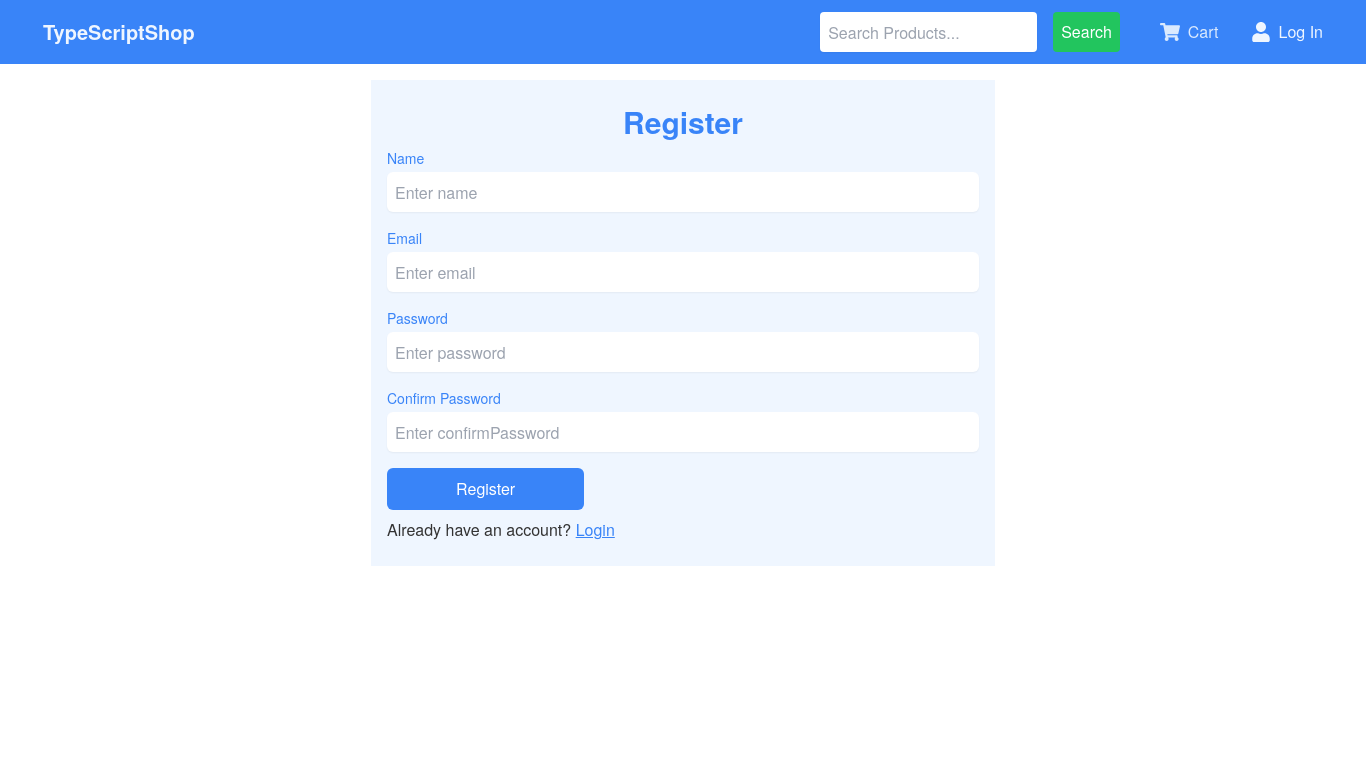
shows username in header after successful registration
Type "john" into the field with test id "input-name".
click(683, 192); type("john")  # box left=387, top=172, right=979, bottom=212
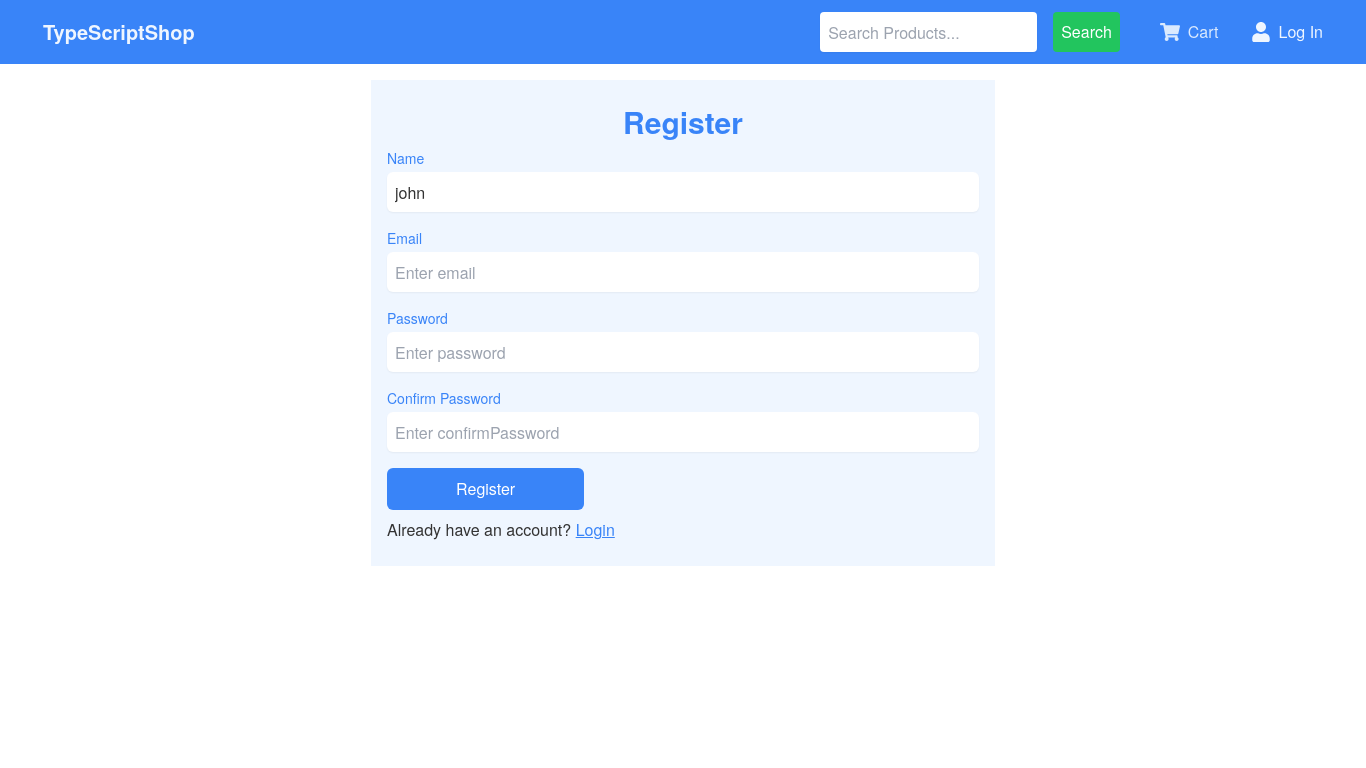
Type "john@email.com" into the field with test id "input-email".
click(683, 272); type("john@email.com")  # box left=387, top=252, right=979, bottom=292
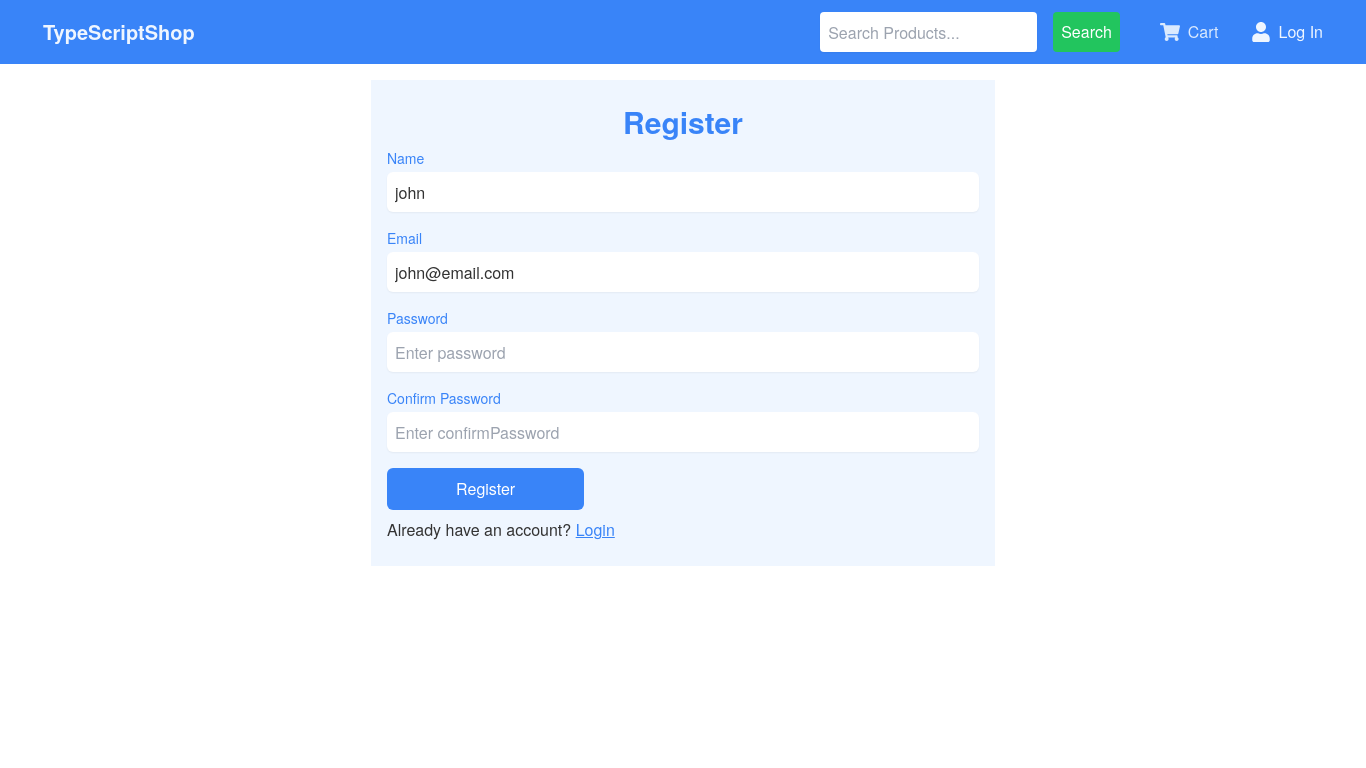
Type "123456" into the password field with test id "input-password".
click(683, 352); type("123456")  # box left=387, top=332, right=979, bottom=372
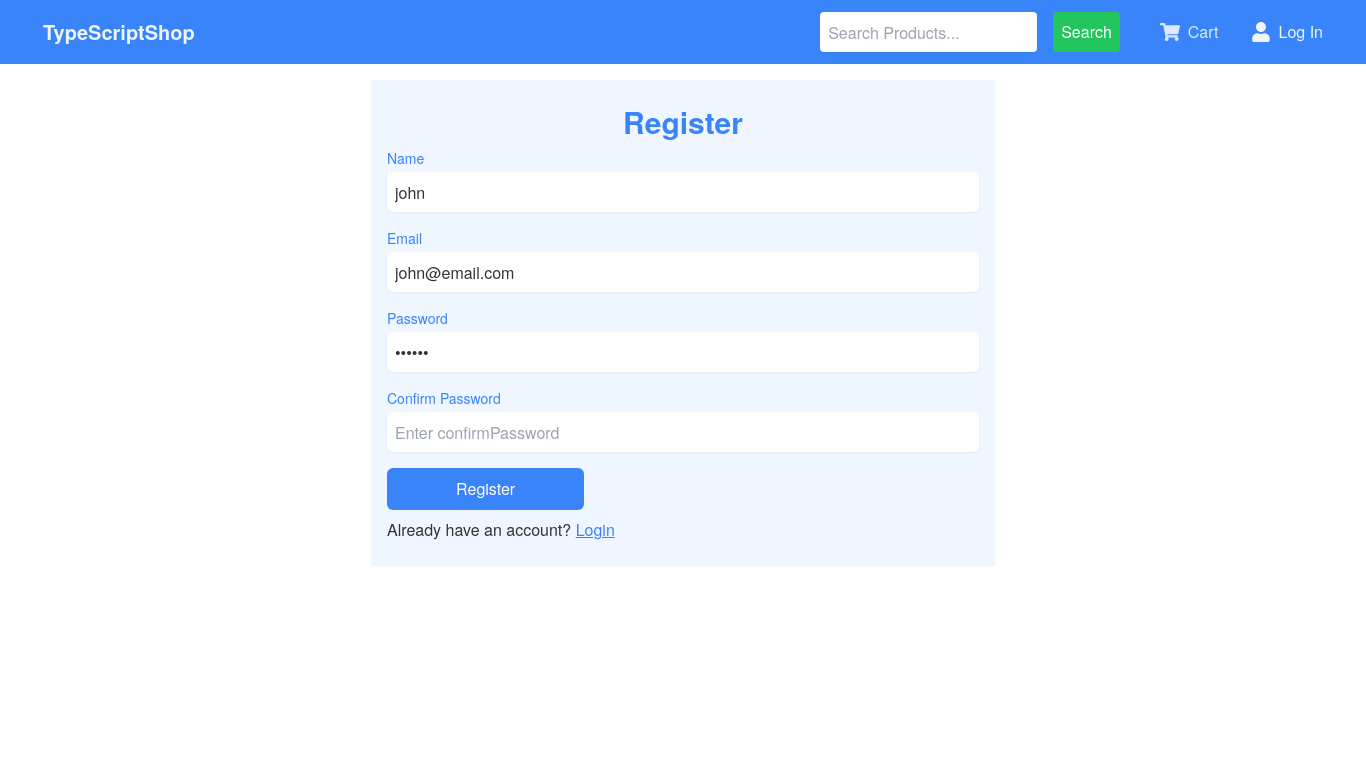
Type "123456" into the field with test id "input-confirmPassword".
click(683, 432); type("123456")  # box left=387, top=412, right=979, bottom=452
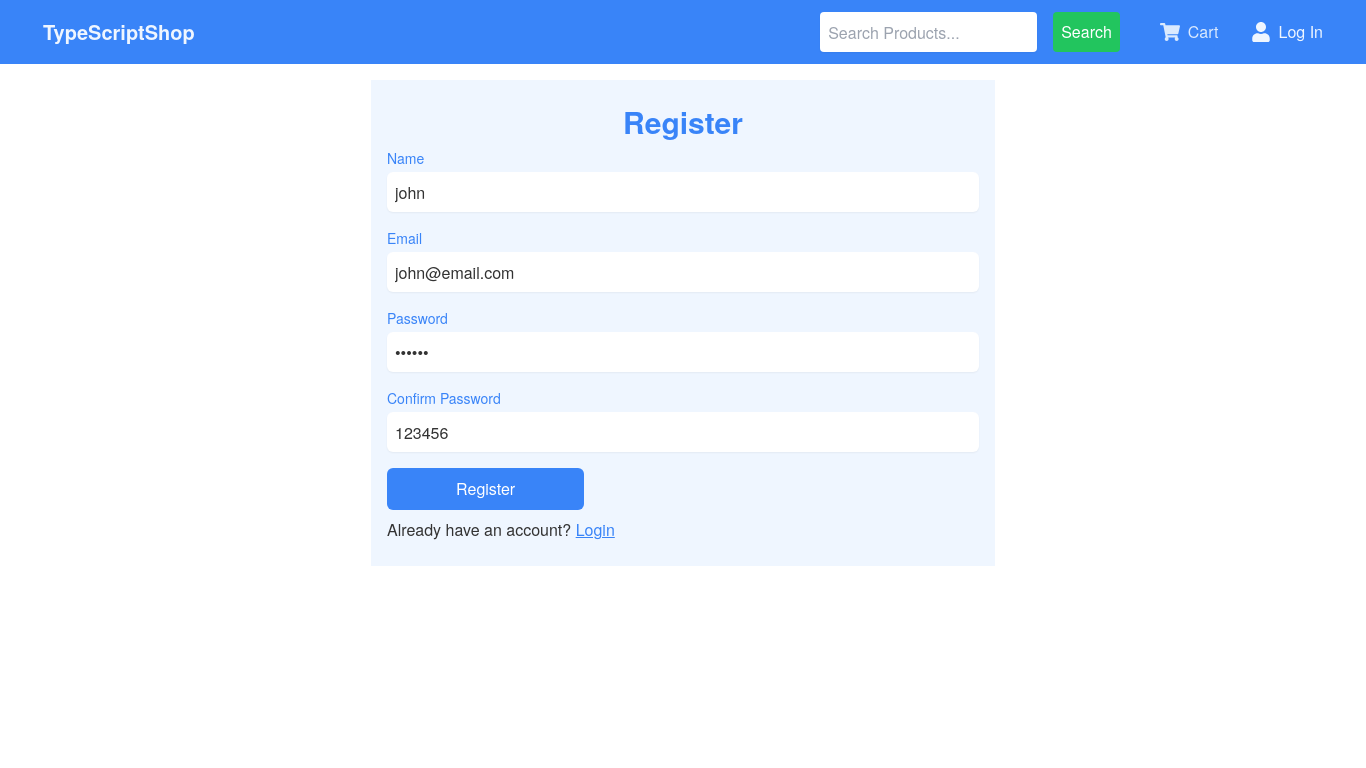
Click the button with test id "register".
click(486, 489)  # box left=387, top=468, right=584, bottom=510
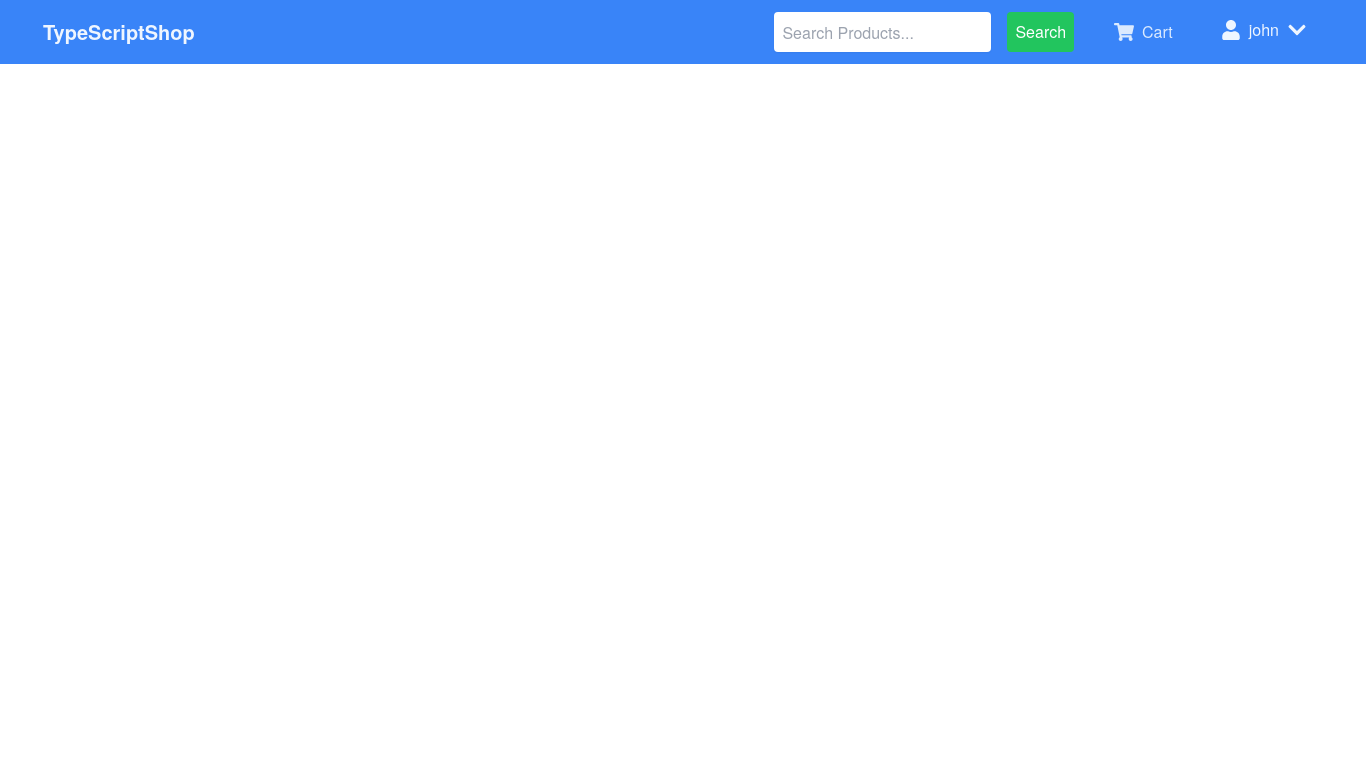
Check: the text with test id "user-info-name" reads "john", box left=1249, top=18, right=1279, bottom=41
